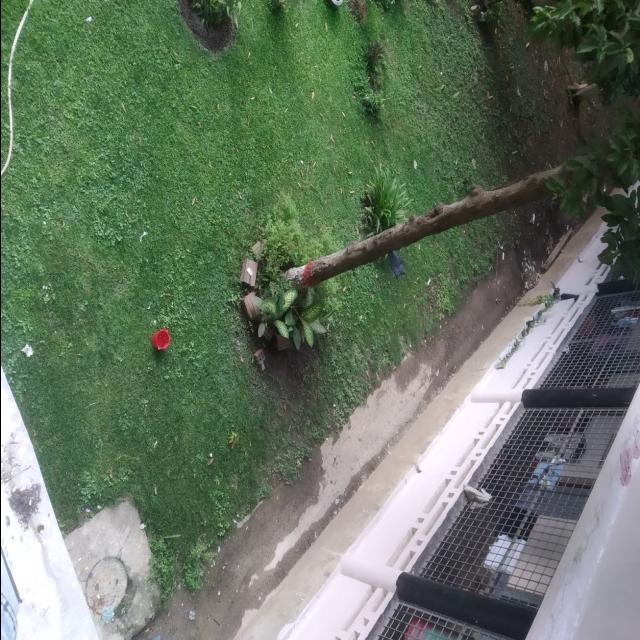Breeding Place: (476, 116, 640, 334), (148, 323, 172, 358)
